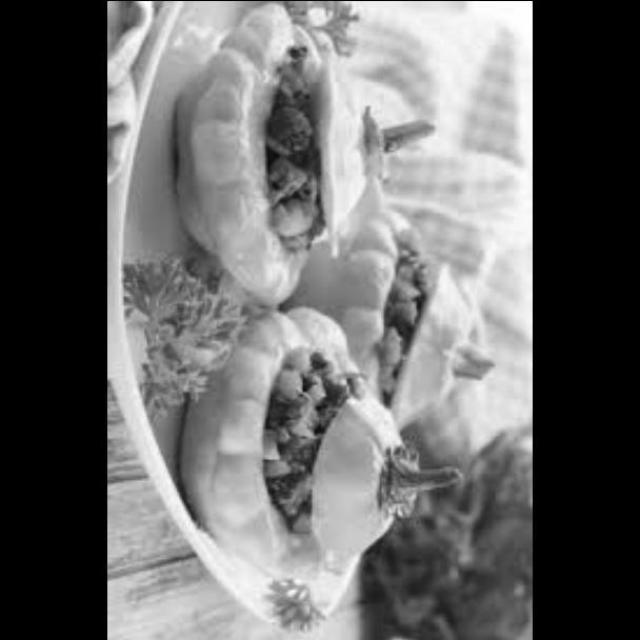bi dao: (164, 266, 316, 587), (172, 1, 325, 311), (329, 366, 456, 600), (299, 58, 415, 258), (324, 192, 408, 402), (396, 240, 495, 418)
